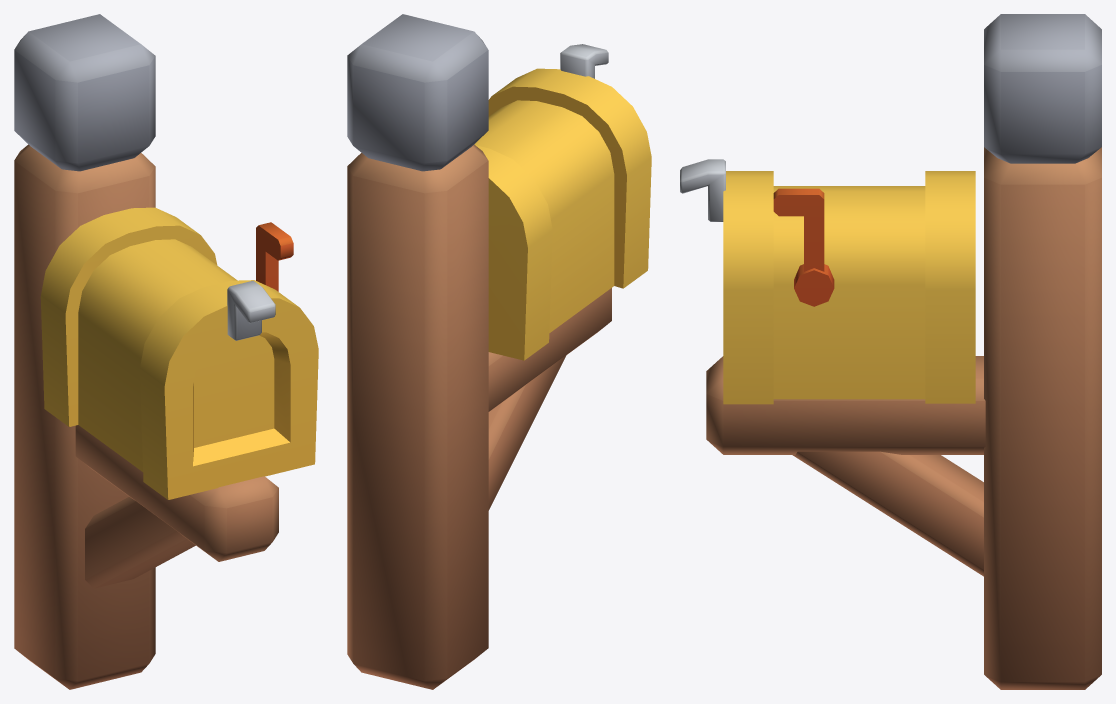
Rendered from mailbox.gltf.
3 views of the same model, side by side, from view 1: azimuth 30°, elevation 25°; view 2: azimuth 150°, elevation 25°; view 3: azimuth 270°, elevation 25° (orthographic).
Parts seen in each view (by area): view 1: mailbox, mailbox_door, mailbox_flag; view 2: mailbox, mailbox_door; view 3: mailbox, mailbox_door, mailbox_flag.
Boxes of the visible parts, <box> form: mailbox: <box>14,14,278,689</box>; mailbox_door: <box>139,280,318,499</box>; mailbox_flag: <box>256,222,293,291</box>; mailbox: <box>347,14,614,689</box>; mailbox_door: <box>488,44,651,288</box>; mailbox: <box>706,14,1101,689</box>; mailbox_door: <box>680,159,773,404</box>; mailbox_flag: <box>773,188,834,306</box>.
Bounding box in the file's own units: 0.5527 × 2.1 × 1.25.
1 material, 1 textured.
